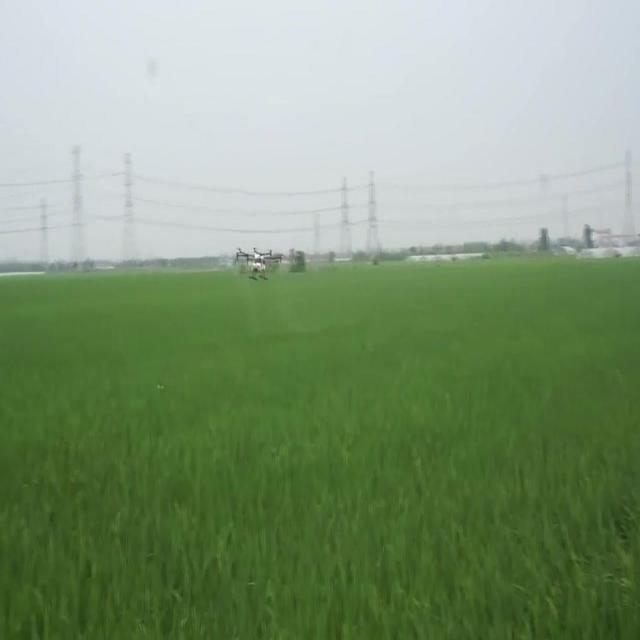UAV: (236, 247, 284, 281)
